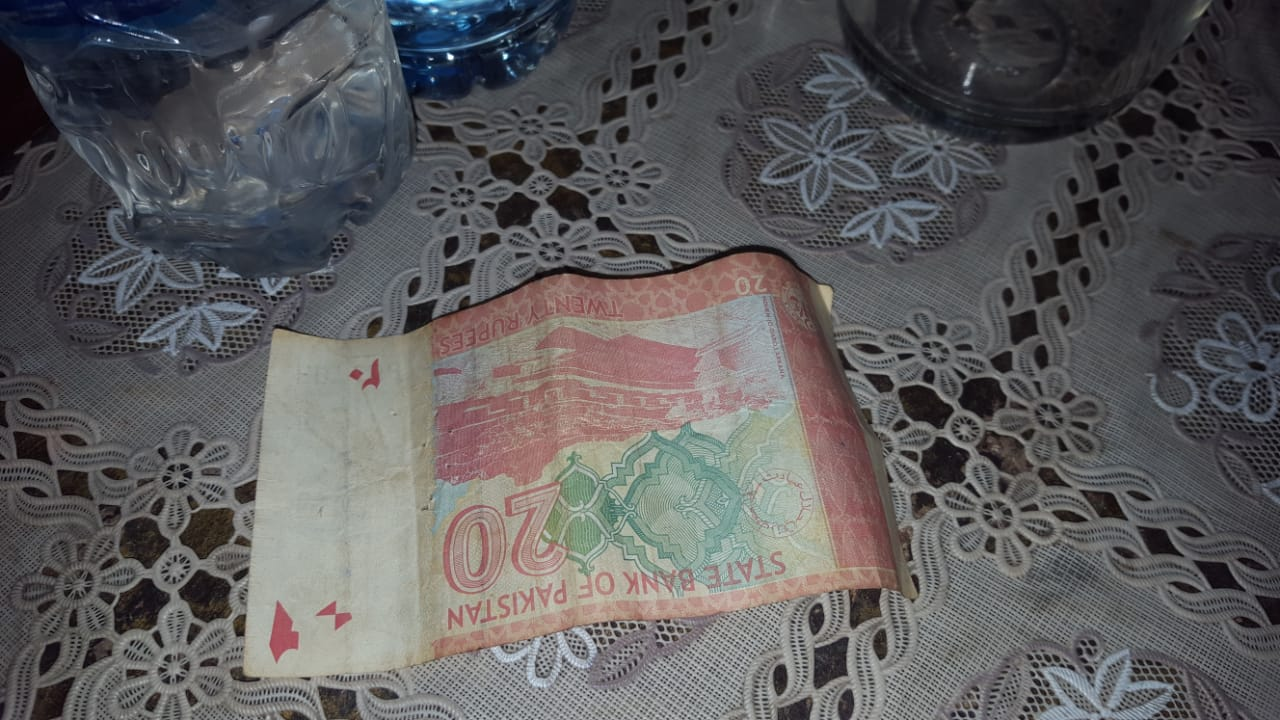20 rupee: (240, 234, 876, 687)
